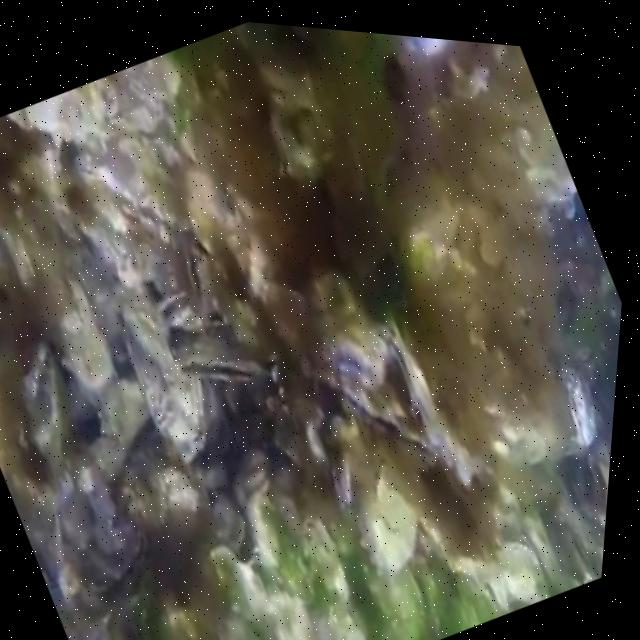Oyster-Closed: (384, 321, 482, 488), (328, 378, 434, 472), (79, 520, 147, 594), (17, 340, 59, 449), (321, 322, 386, 392), (498, 534, 552, 605), (567, 366, 604, 455), (88, 588, 139, 640), (557, 525, 599, 583), (238, 446, 267, 496)
Oyster-Indeterminate: (126, 307, 206, 454), (359, 442, 420, 577), (57, 278, 111, 387), (204, 546, 267, 622), (372, 567, 423, 638), (186, 174, 226, 254), (272, 595, 318, 640), (222, 616, 265, 640)
Oyster-Open: (7, 74, 116, 147), (177, 337, 260, 378), (214, 496, 257, 565), (159, 290, 211, 332), (186, 249, 214, 311), (591, 455, 610, 516)
